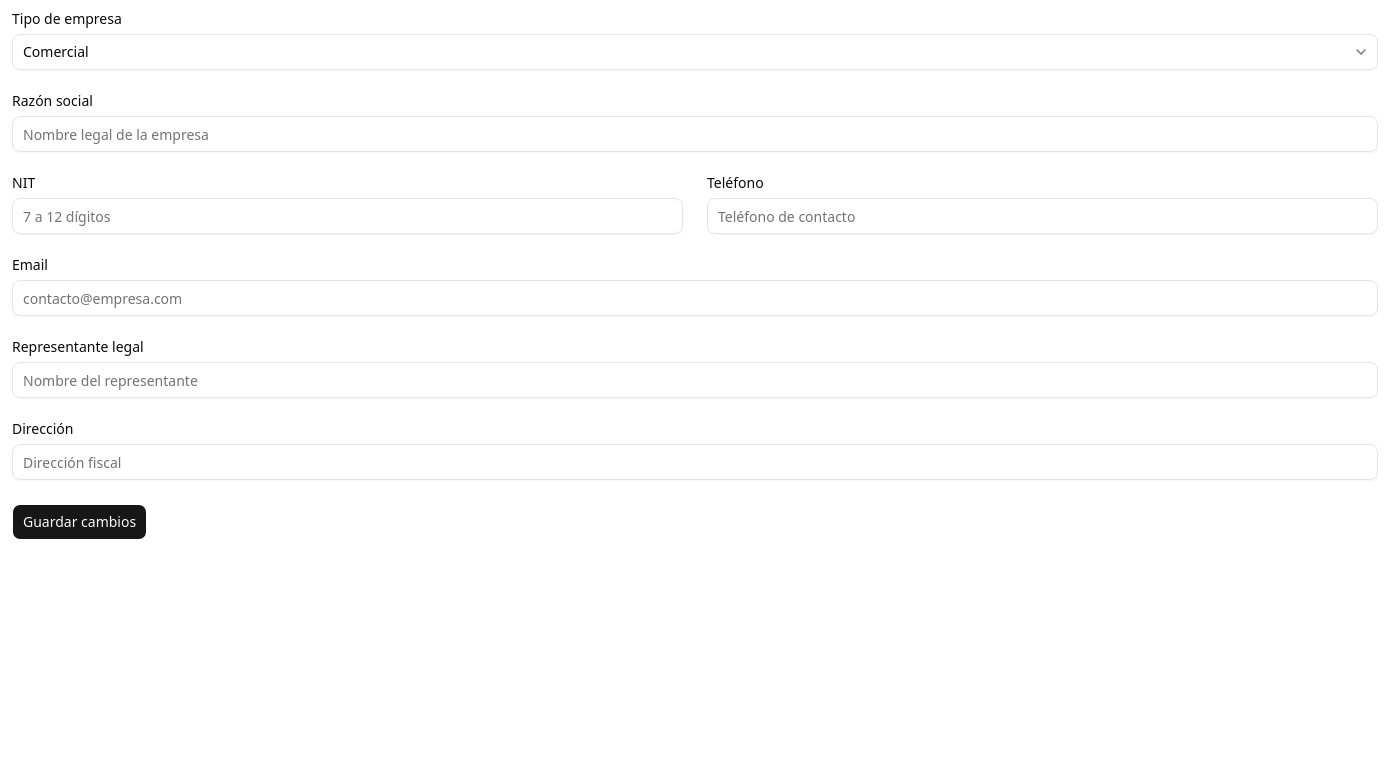
Test case: EmpresaForm › email malformado muestra mensaje de error en español
The width and height of the screenshot is (1390, 780).
In the field labelled "Email": (695, 298) [12,280,1378,316], type "no-es-un-email"
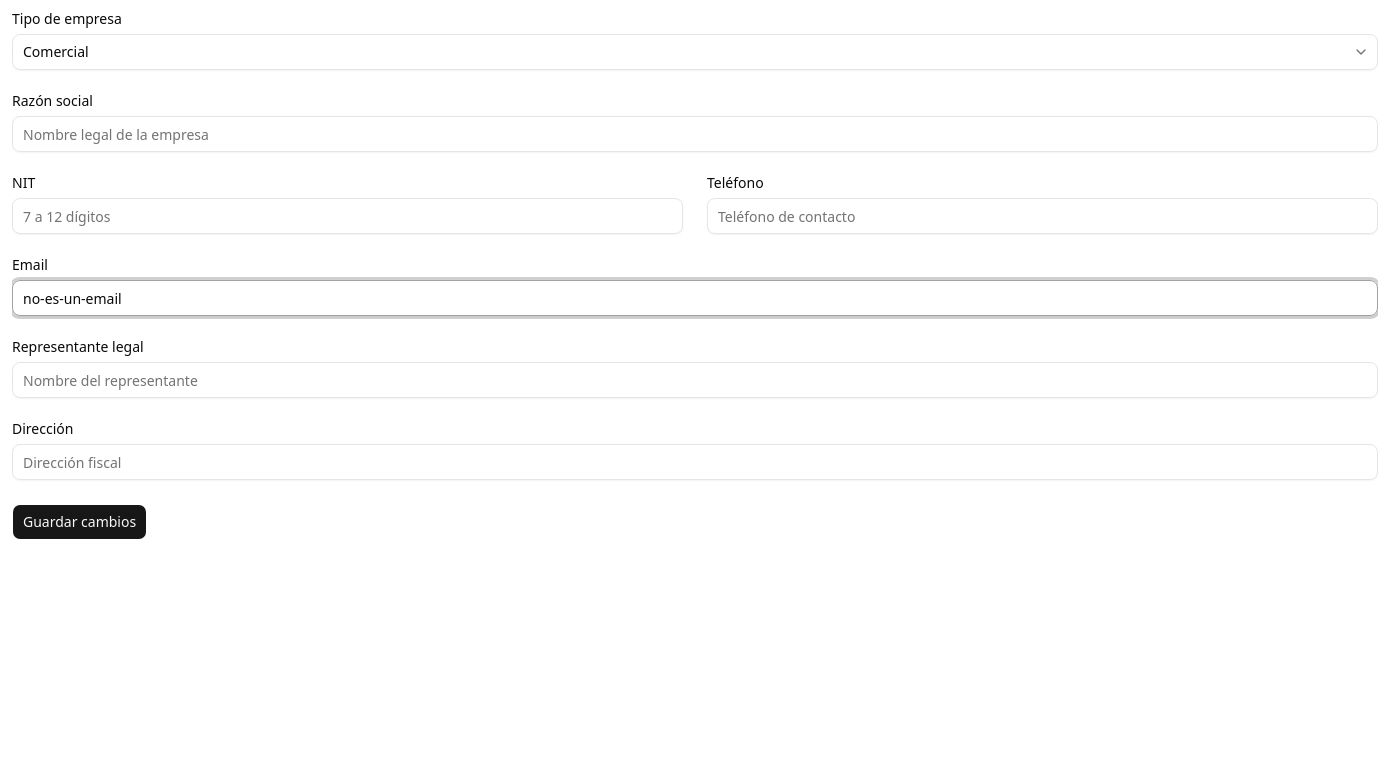
Click the button "Guardar cambios": (80, 522) [12,504,147,540]
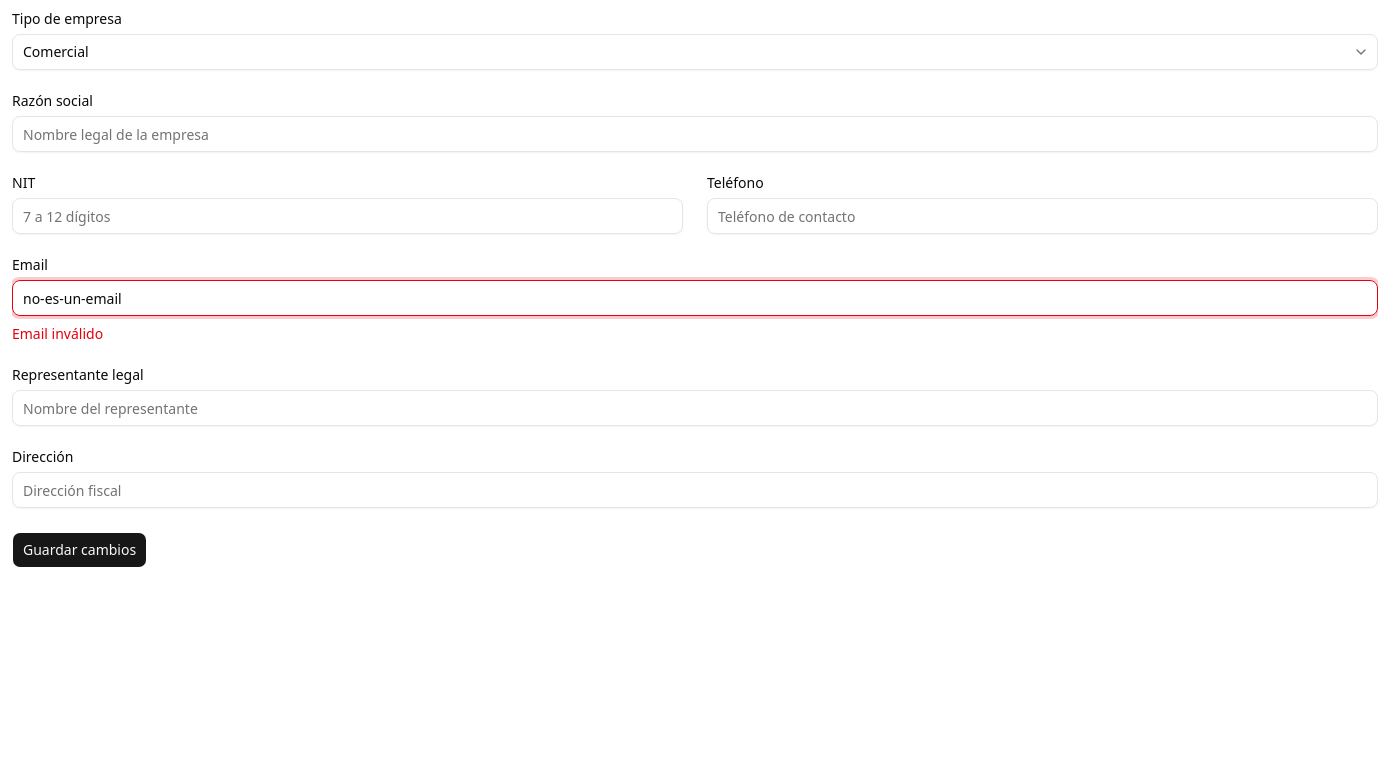
expect the text "Email inválido" is shown: met, box [12,324,103,343]
